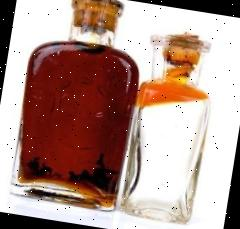glass: (6, 0, 223, 226)
